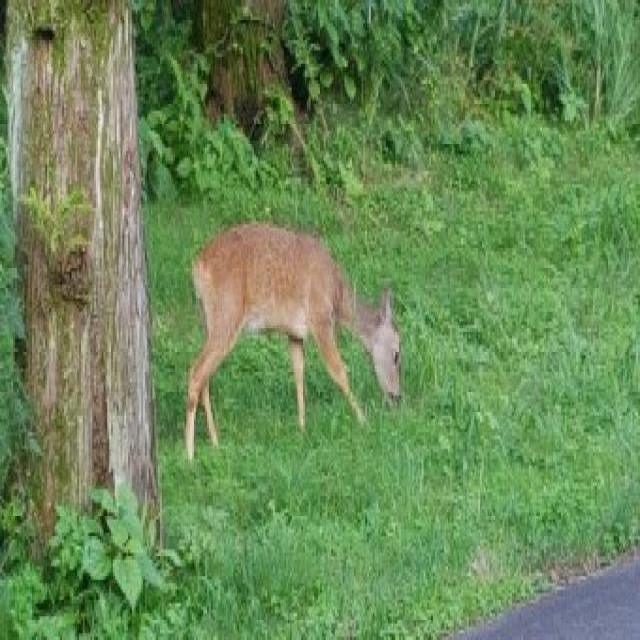deer: (168, 186, 412, 477)
